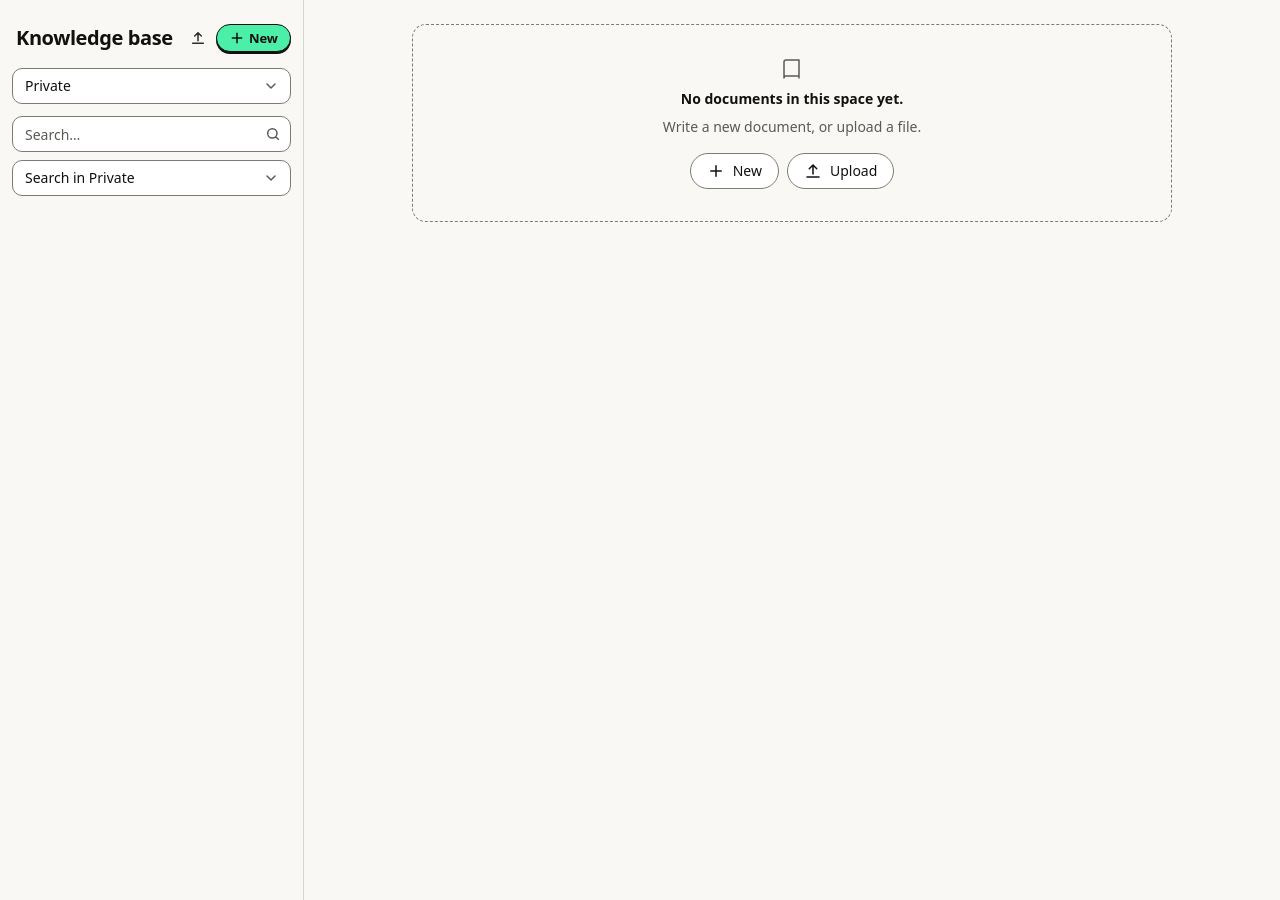
it: shows the server’s notice: Semantic search is off for these spaces until one of their members turns it on for this workspace's embeddings model. These are full-
Expected: the text "No documents in this space yet." is shown, 681,89 -> 903,109
In the search field named "Search the knowledge base": {"x": 152, "y": 134} 12,116 -> 291,152, type "orchard"
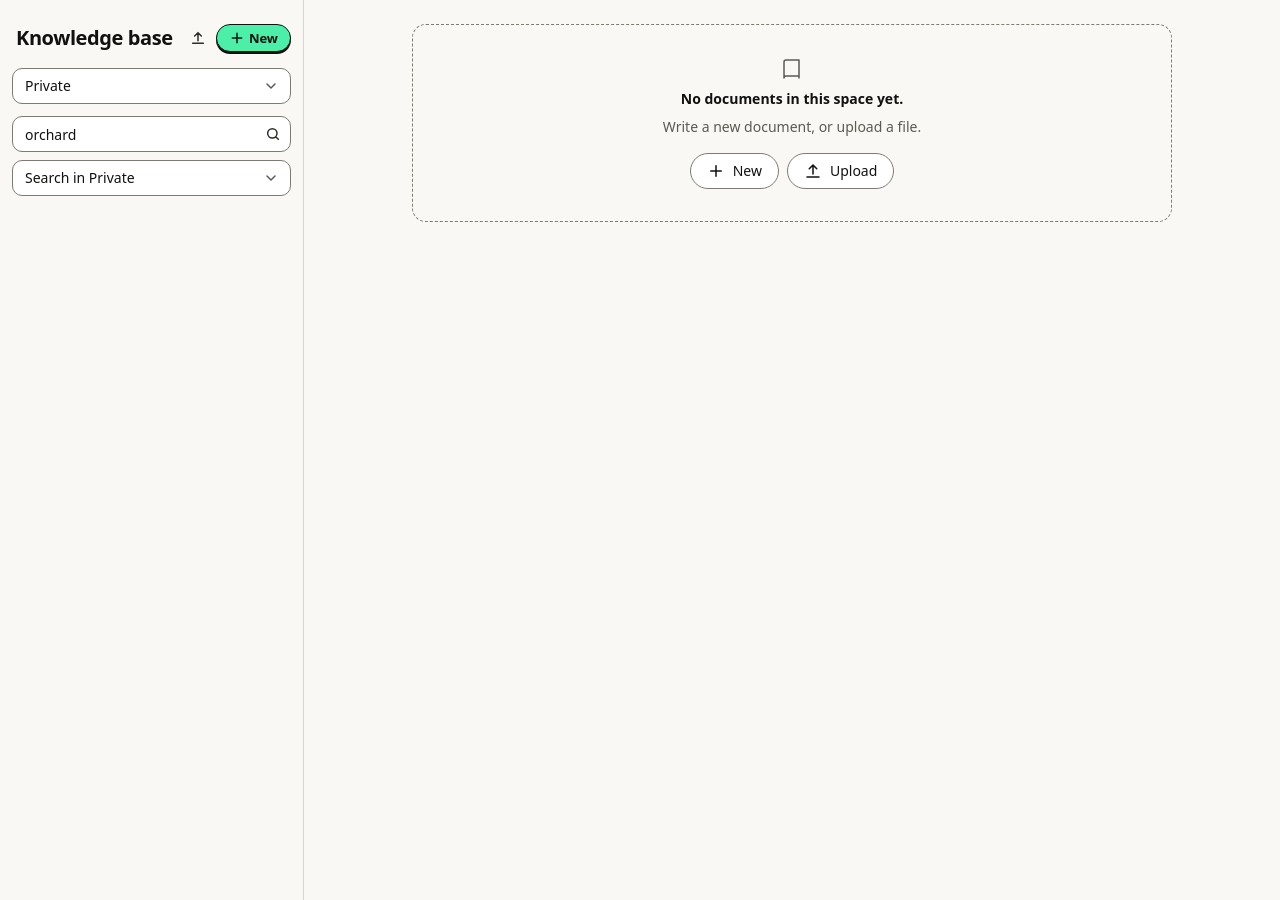
Select "Search in all spaces" in the dropdown named "Where to search": {"x": 152, "y": 178} 12,160 -> 291,196
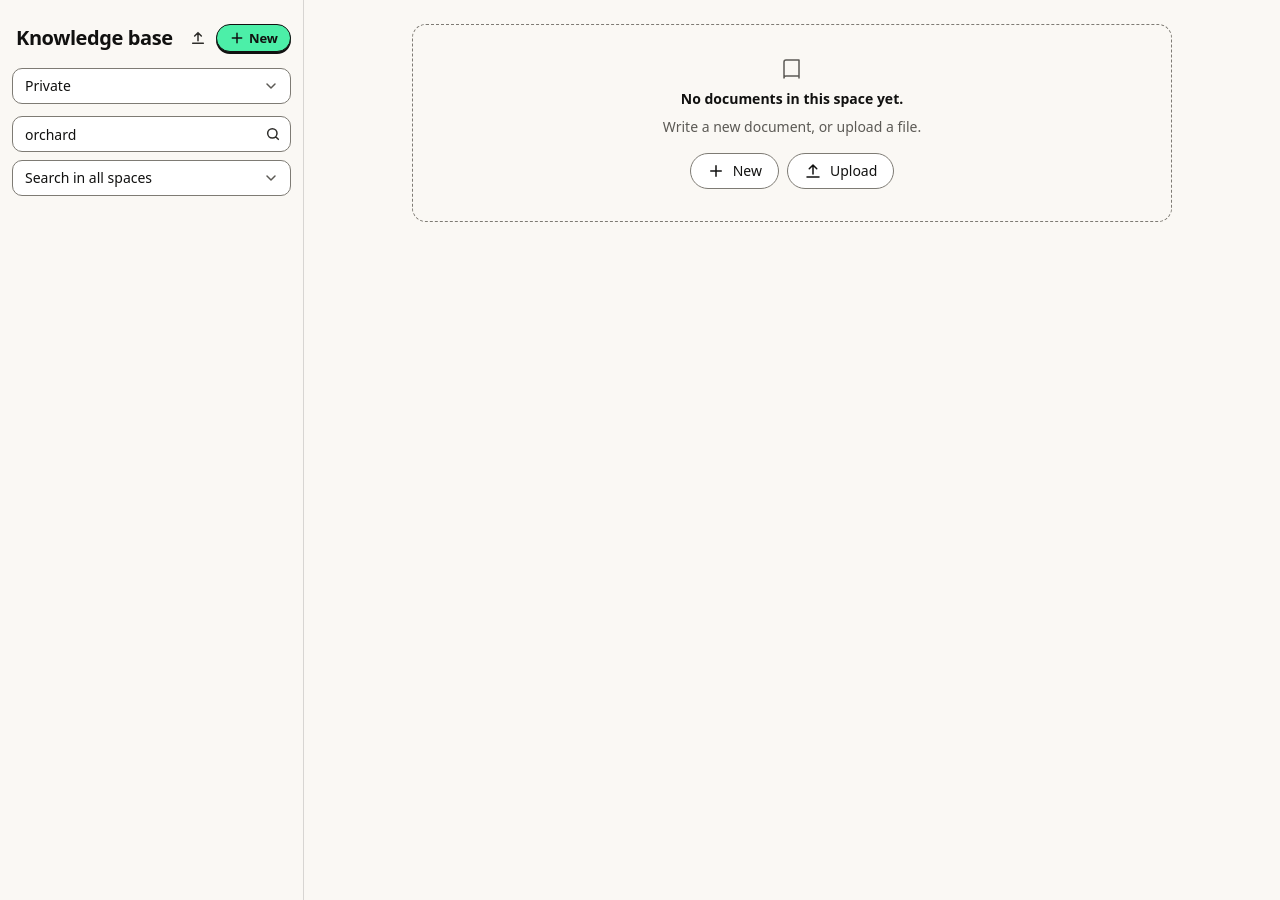
Click the button named "Search": {"x": 273, "y": 134} 259,120 -> 287,148
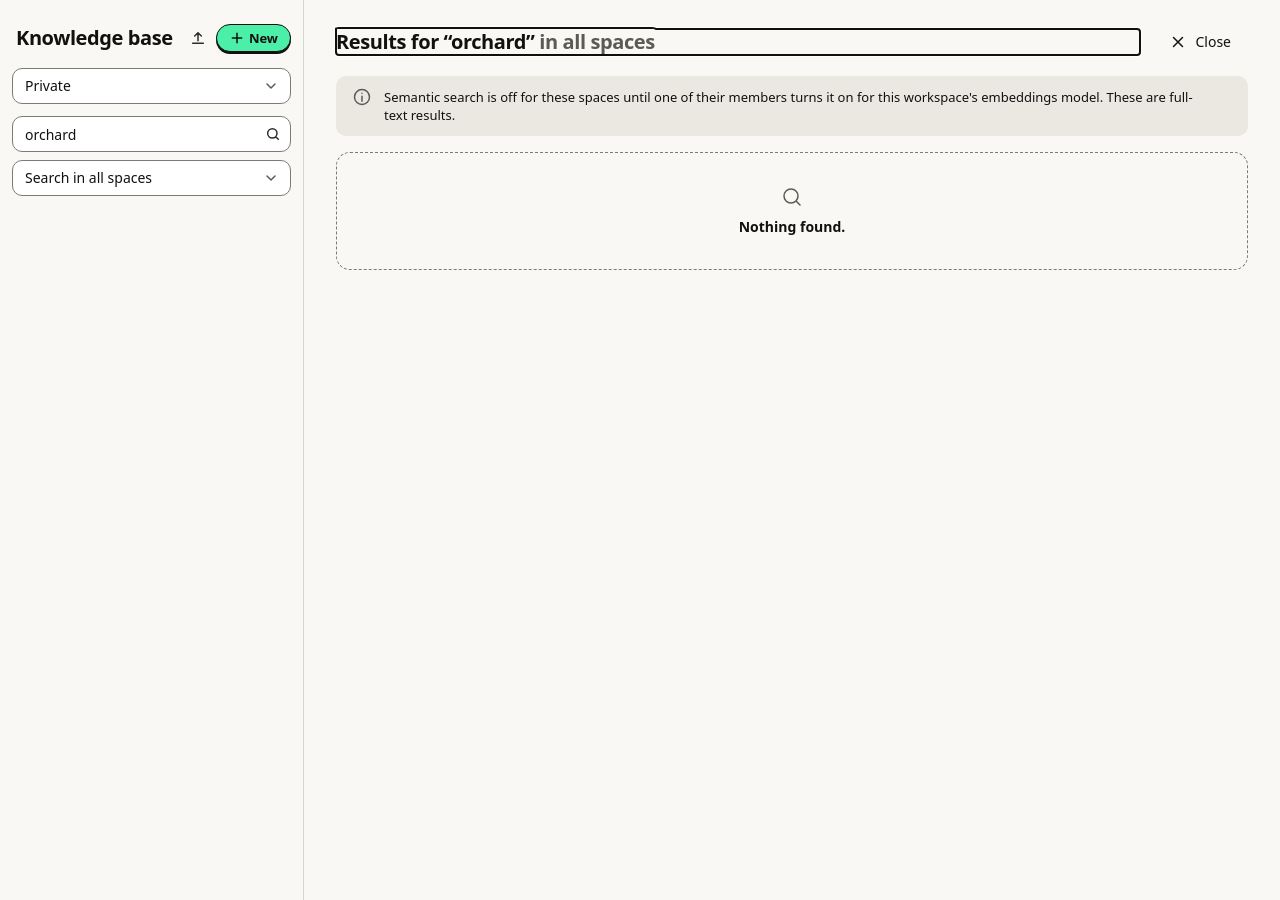
Expected: the text "Semantic search is off for these spaces until one of their members turns it on for this workspace's embeddings model. Th" is shown, 384,88 -> 1193,124
Expected: the text "Nothing found." is shown, 739,217 -> 845,237
